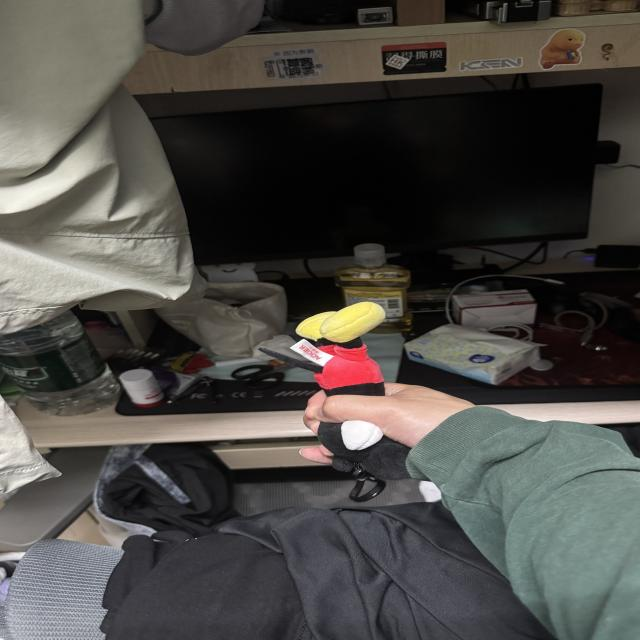mickey: (261, 302, 385, 395)
